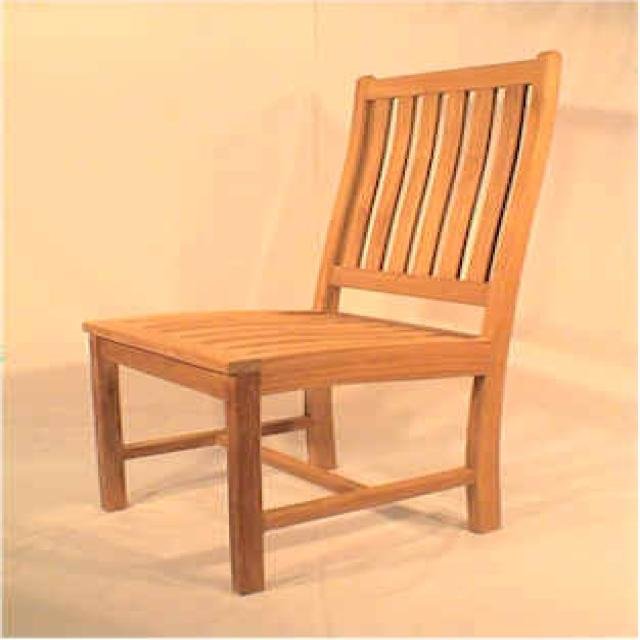chair: (78, 48, 565, 595)
